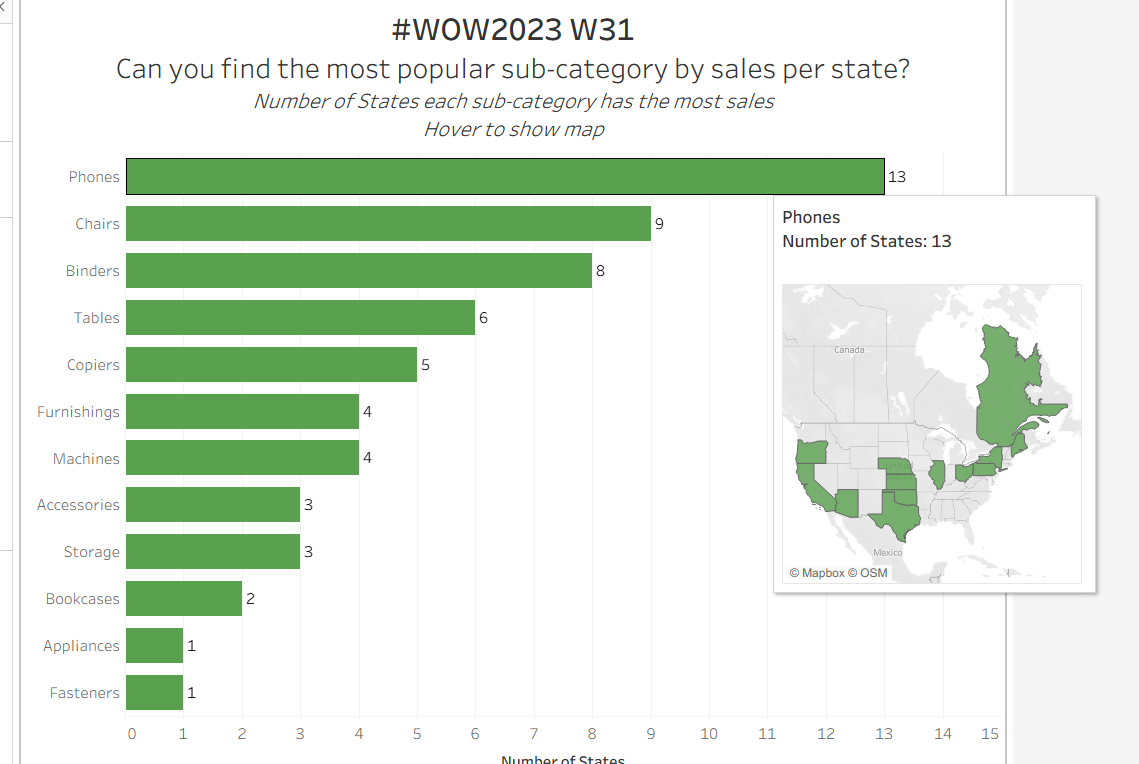

What the dashboard file says about the page in this screenshot:
{"tool":"tableau","page":{"name":"Final Dashboard","canvas":[1000,800],"ordinal":0},"visuals":[{"type":"worksheet","title":"# of States","mark":"Automatic","rows":["Sub-Category"],"cols":["Calculation_2193534551259815936"],"box":[8,8,984,784]}]}

Visuals, with their boxes on the page's 1000x800 design canvas (x1, y1, x2, y2). These are canvas units, not pixel positions in the 1139x764 screenshot, which may show the page scaled, cropped or inside an application window:
"# of States" worksheet: bbox=[8, 8, 992, 792]
